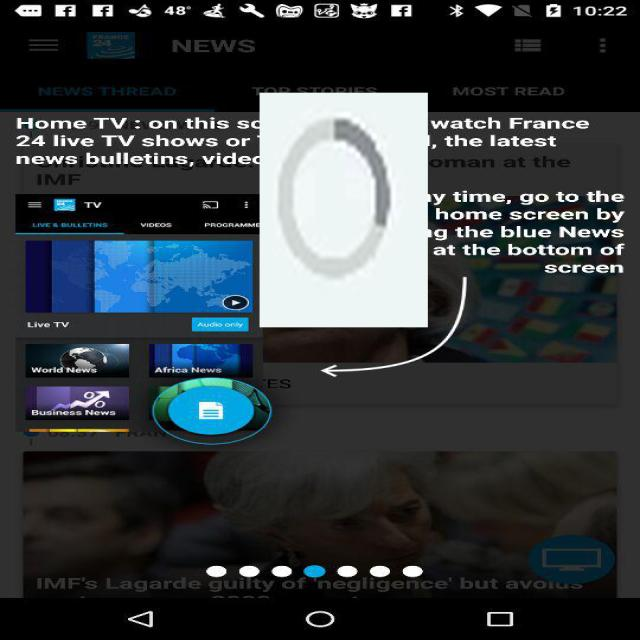misdirection: (259, 93, 428, 327)
